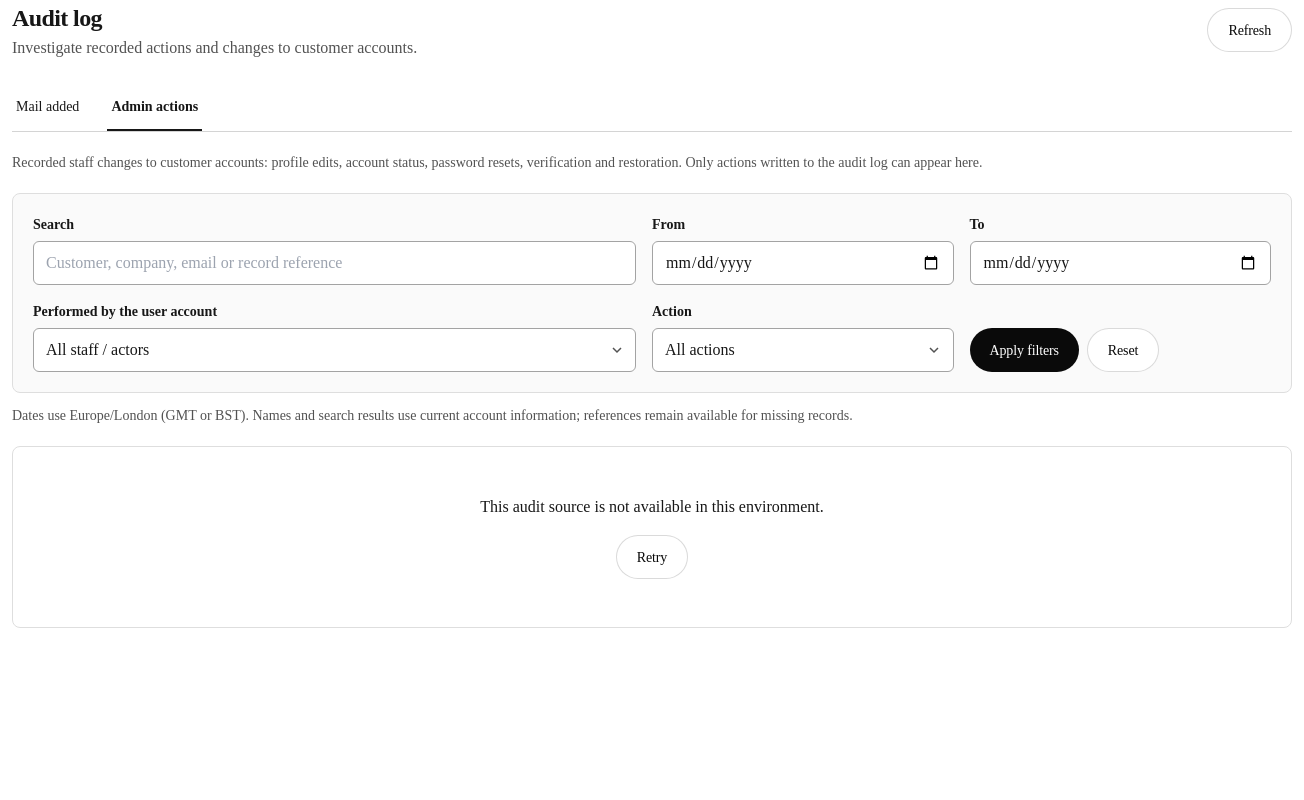
Test: audit investigation › handles errors, retry, no results and empty sources
This screenshot has width=1304, height=800.
expect the message shows "not available": met, box [480, 498, 824, 515]
Click the button "Retry": (652, 557) [616, 535, 688, 579]
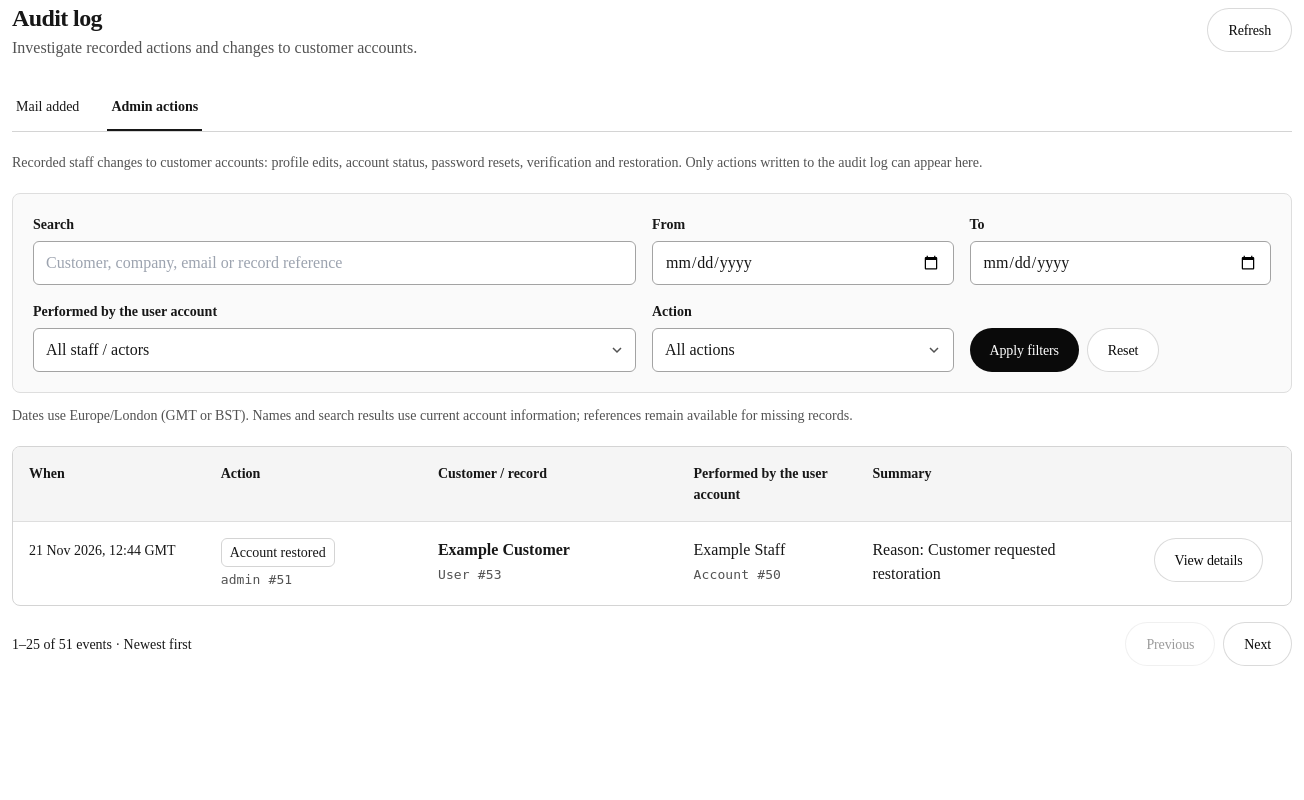
In the search field: (334, 263) [33, 241, 636, 285], type "missing"
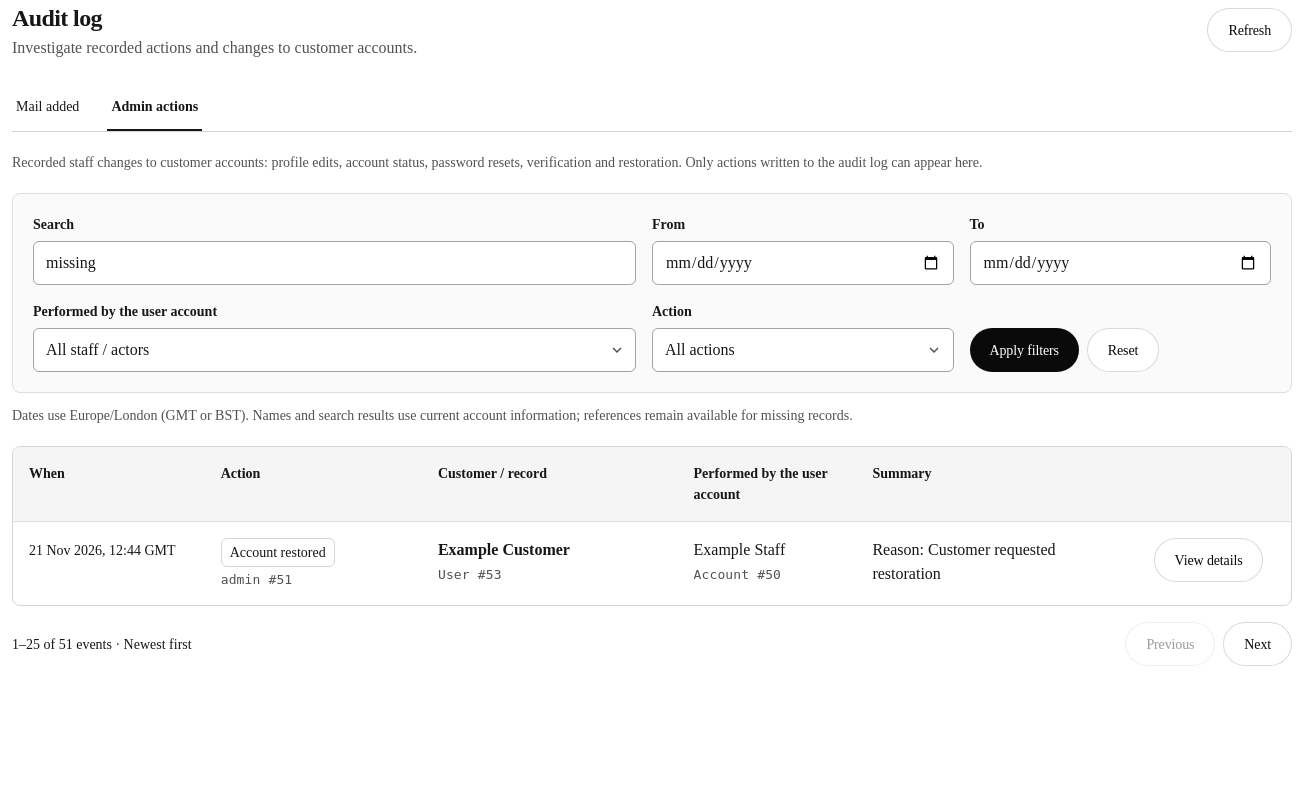
Click the button "Apply filters": (1024, 350) [970, 328, 1079, 372]
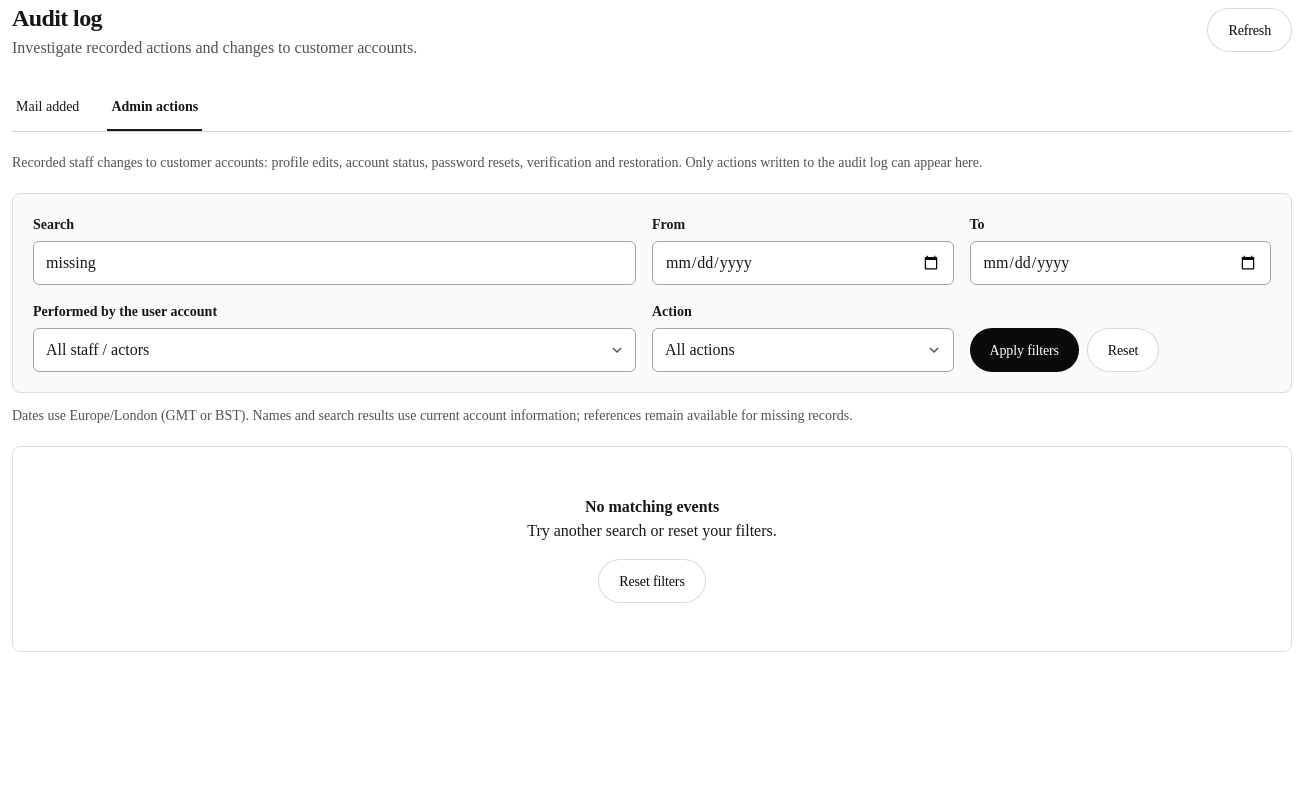
expect the heading "No matching events" is shown: met, box [585, 498, 719, 515]
Click the button "Reset filters": (652, 581) [598, 559, 706, 603]
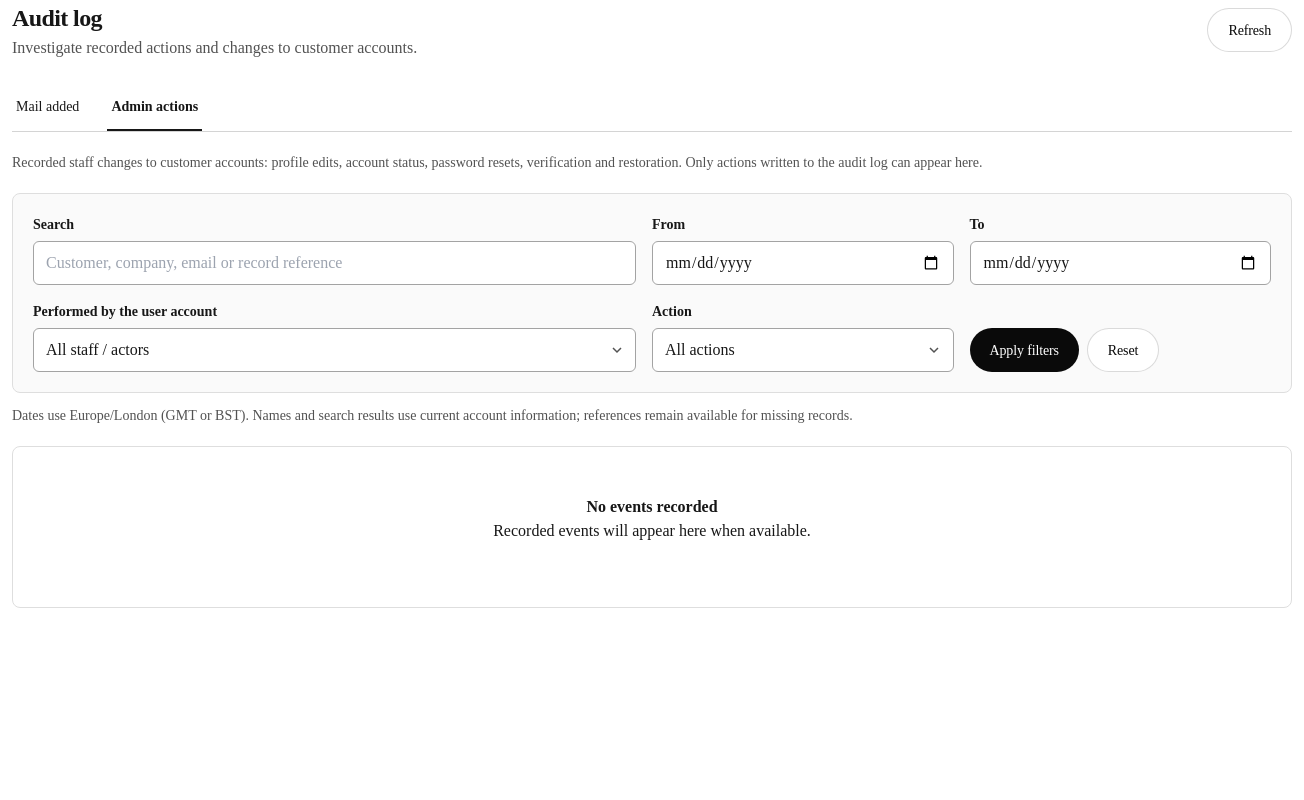
expect the heading "No events recorded" is shown: met, box [586, 498, 718, 515]
